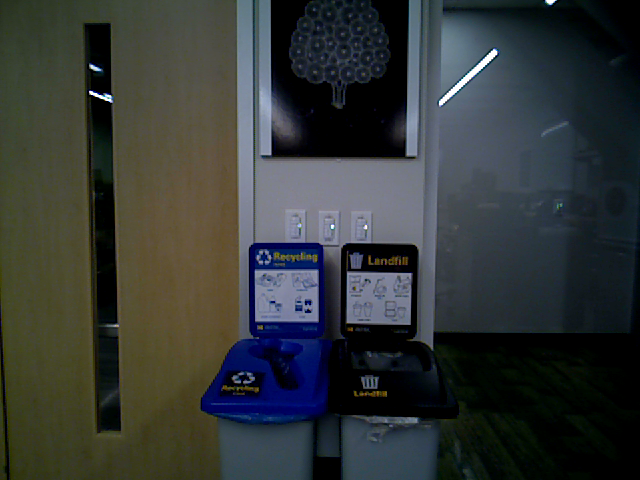painting1: (258, 1, 415, 155)
